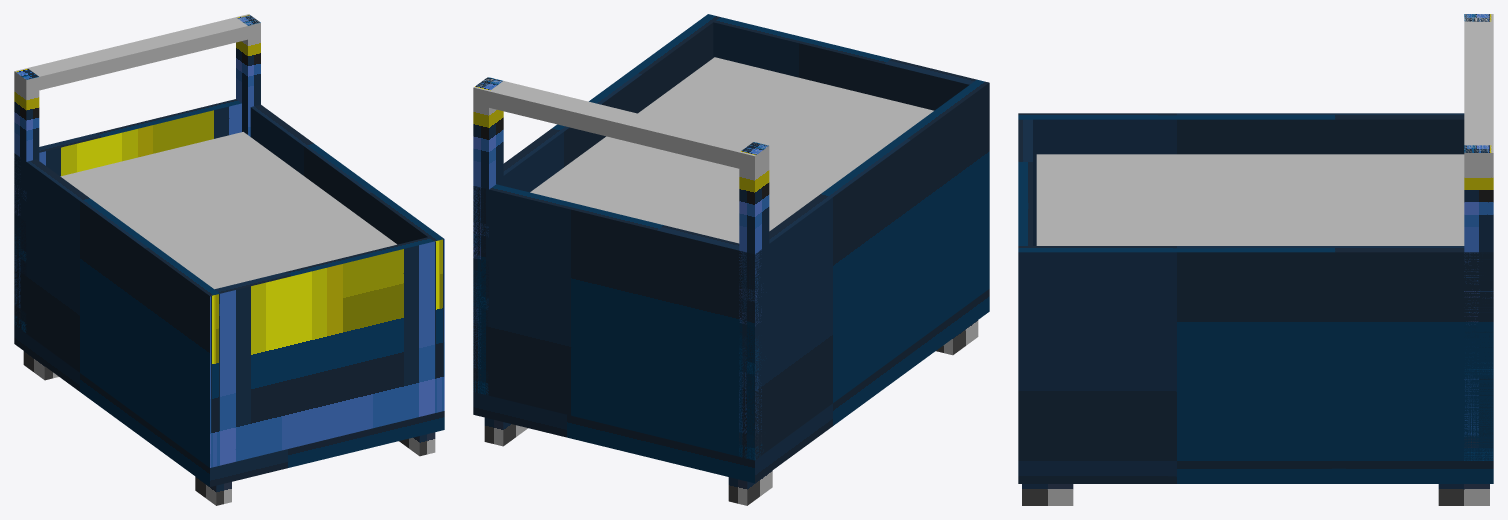
The model's file is janitorial_cart.glb.
The picture shows the model from 3 angles, left to right: view 1: azimuth 30°, elevation 25°; view 2: azimuth 150°, elevation 25°; view 3: azimuth 270°, elevation 25°; orthographic projection. The views are drawn at different scales.
Parts seen in each view (by area): view 1: Cart_Frame, Water_Surface, Wheels; view 2: Cart_Frame, Water_Surface, Wheels; view 3: Cart_Frame, Water_Surface, Wheels.
Part boxes in pixels (x1=…): Cart_Frame: x1=14, y1=14, x2=444, y2=486; Water_Surface: x1=60, y1=132, x2=396, y2=289; Wheels: x1=23, y1=351, x2=435, y2=505; Cart_Frame: x1=473, y1=14, x2=989, y2=483; Water_Surface: x1=530, y1=57, x2=933, y2=243; Wheels: x1=484, y1=320, x2=978, y2=505; Cart_Frame: x1=1018, y1=14, x2=1493, y2=483; Water_Surface: x1=1036, y1=154, x2=1464, y2=245; Wheels: x1=1022, y1=484, x2=1489, y2=505.
Size of the model in its own units: 0.9 by 1.08 by 1.3.
1 material, 1 textured.
